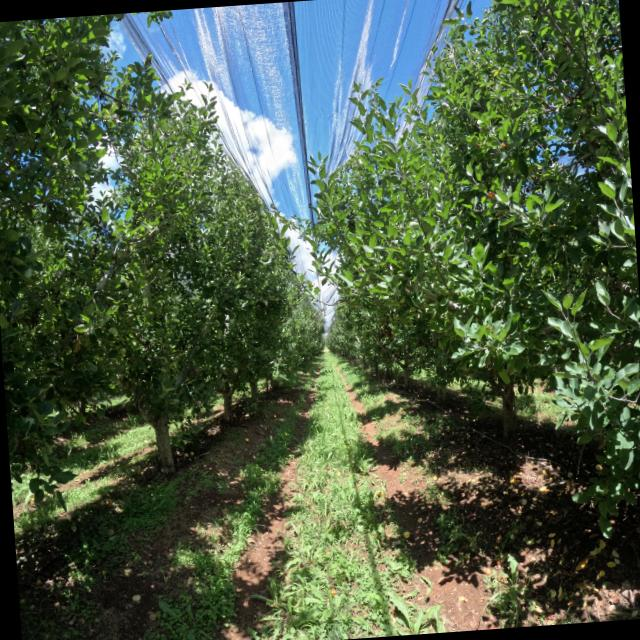-FireBlight-: (378, 311, 397, 341)
